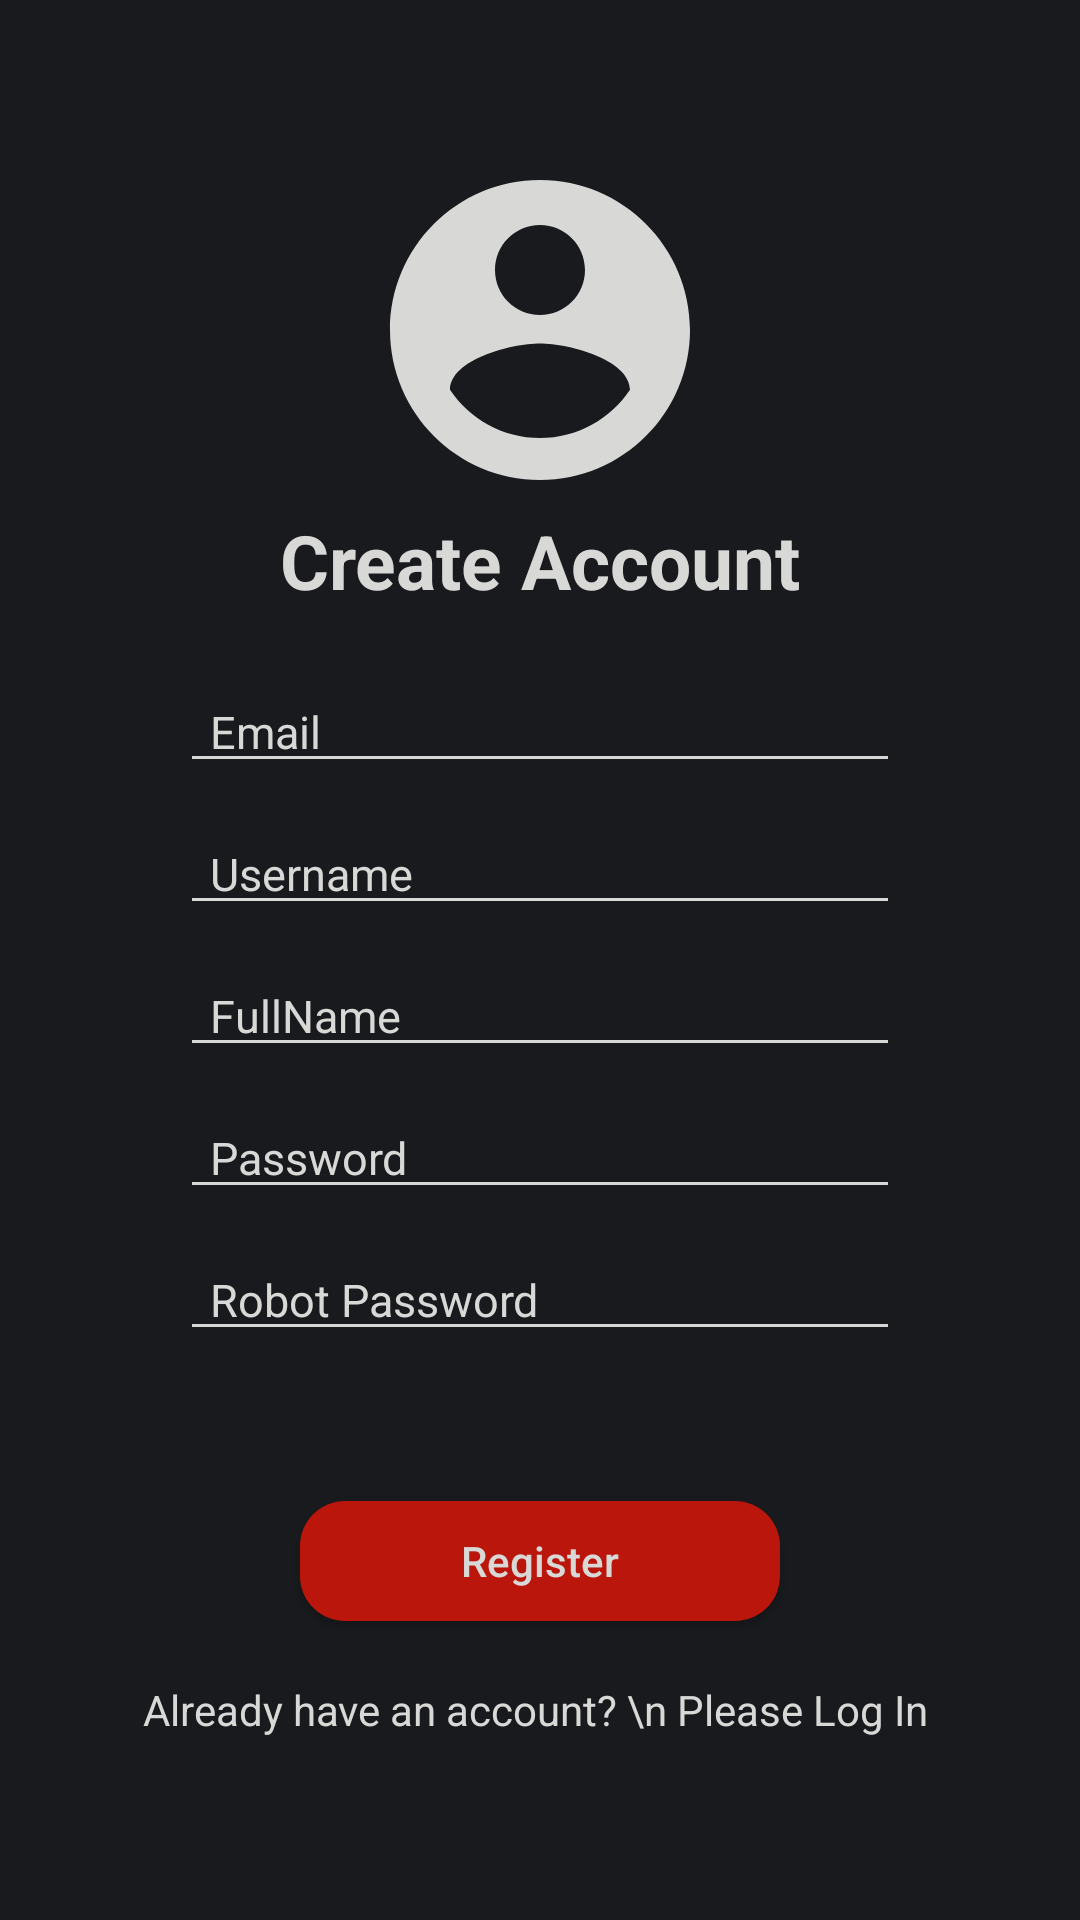

Point at icon controls on the screen. Image size 1080px x 1920px, points as point (x, y).
account circle: point (540, 330)
